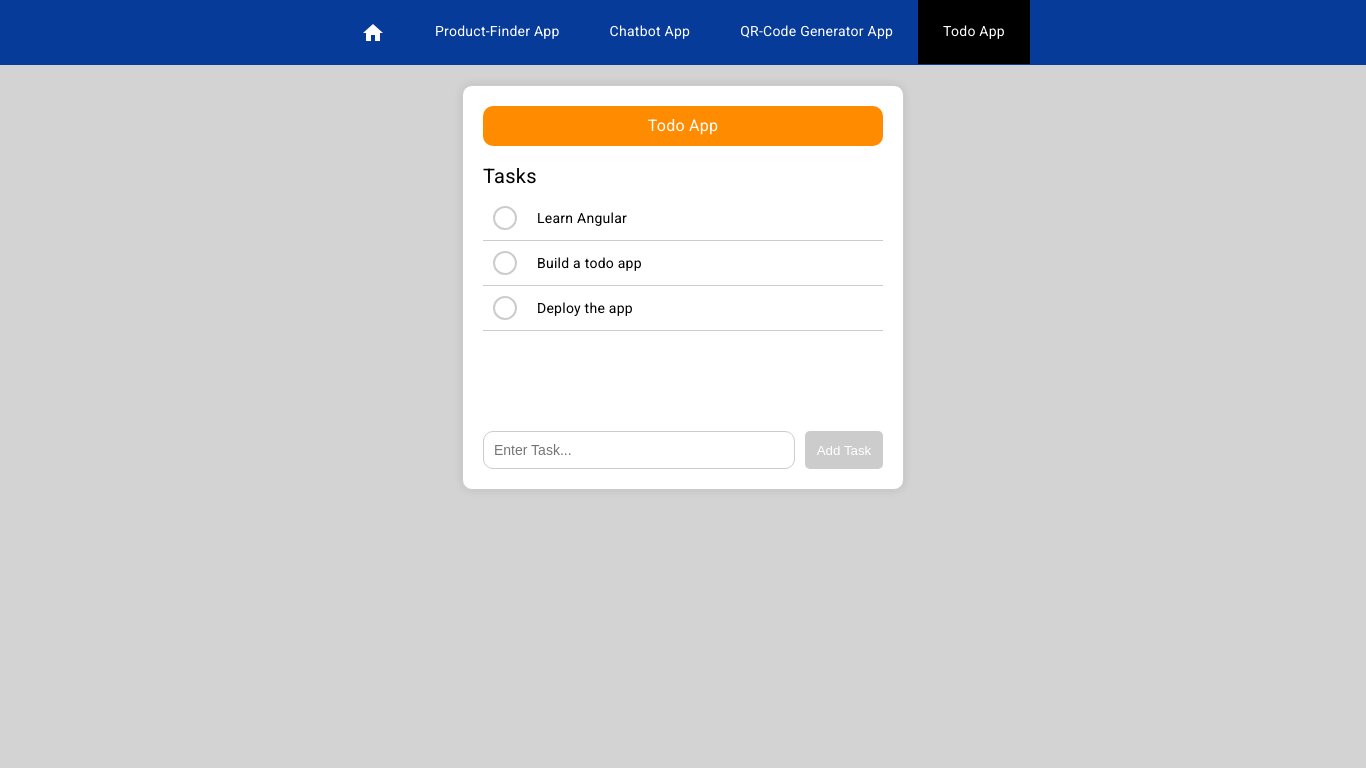
it: todo-app › can set a task completed + delete it
The image size is (1366, 768).
Click the element with class "status-circle" next to "Deploy the app".
click(505, 308)  # box [493,296,517,320]
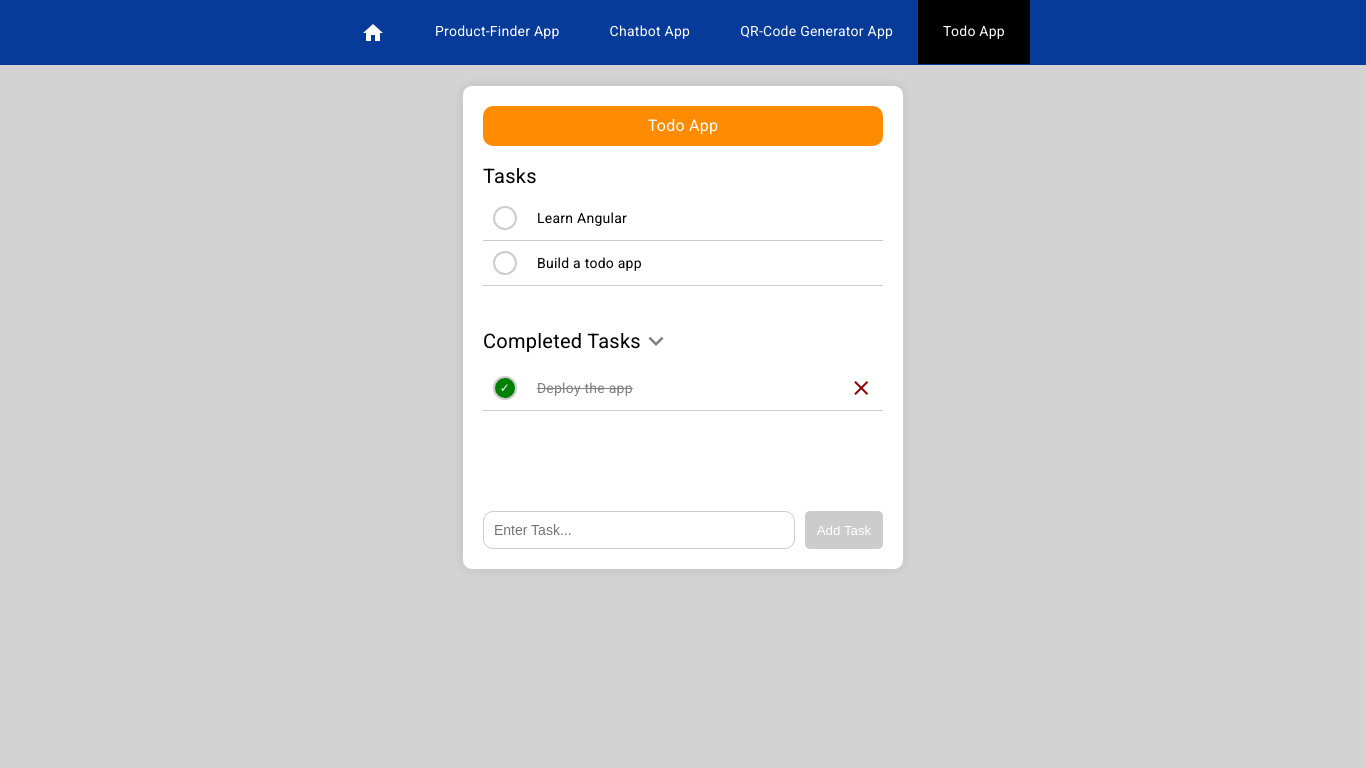
Expected: the text with class "todo-list" reads "Deploy the app", [537,380,633,396]
Now the element with class "completed-tasks-title" is shown, box [483,326,671,356]
Click the picture next to "Completed Tasks".
click(656, 341)  # box [641,326,671,356]
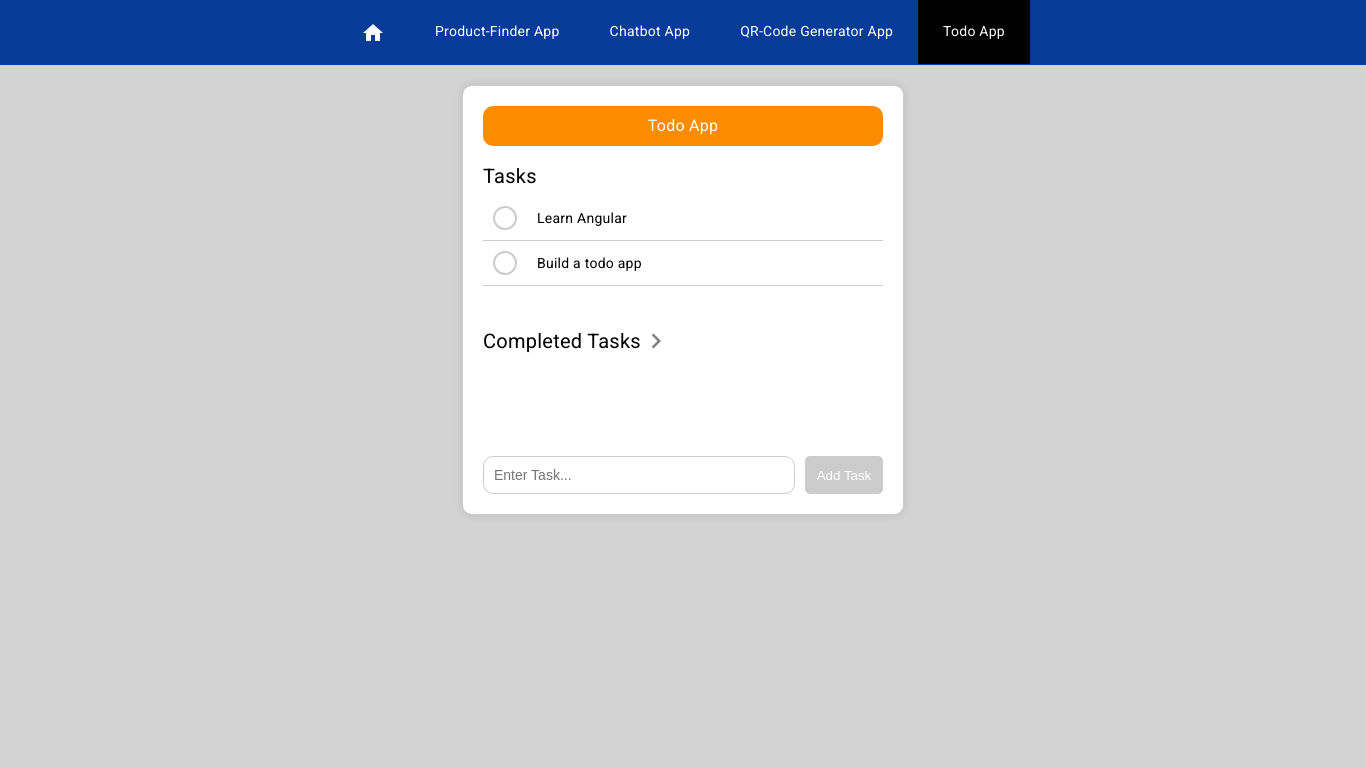
Now the element with class "circle-completed" is gone
Click the picture next to "Completed Tasks".
click(656, 341)  # box [641,326,671,356]
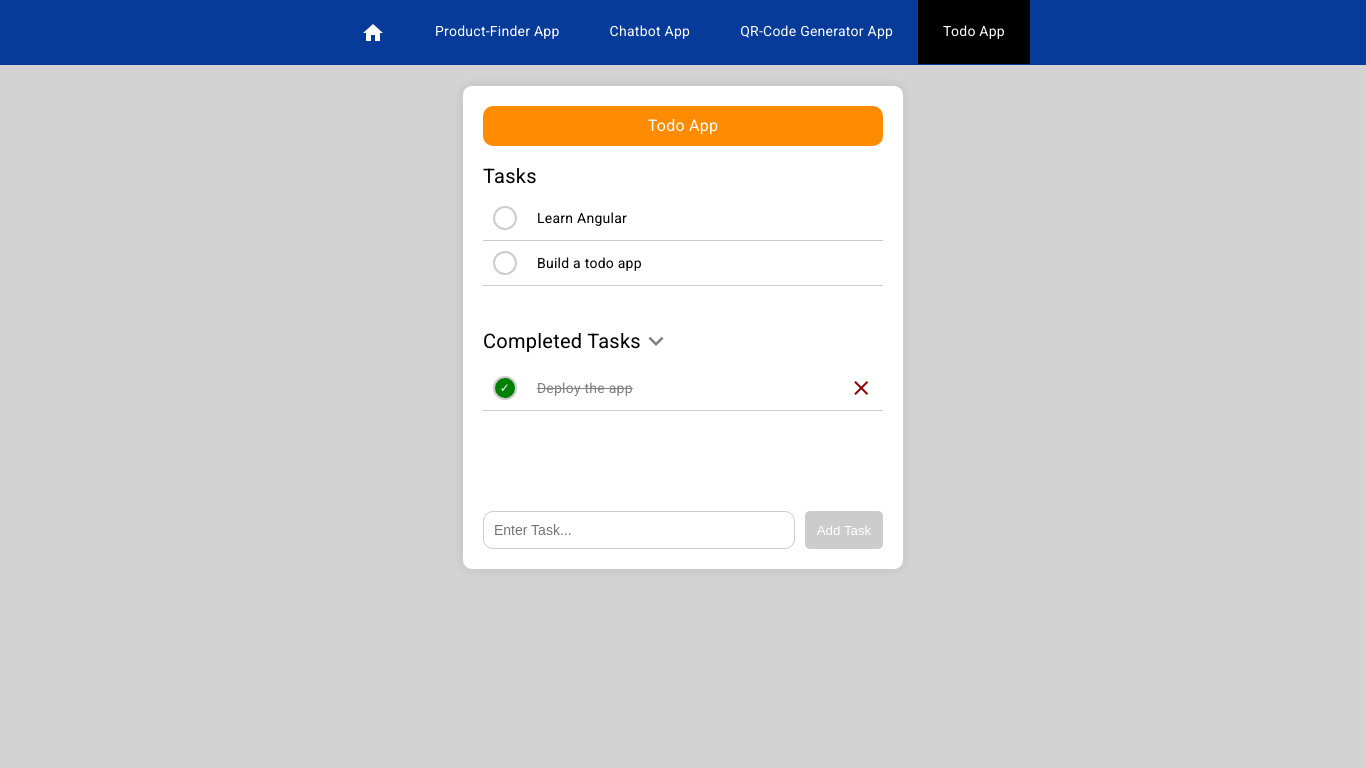
Now the element with class "circle-completed" is shown, box [493,376,517,400]
Click the picture with class "delete-button".
click(861, 388)  # box [849,376,873,400]
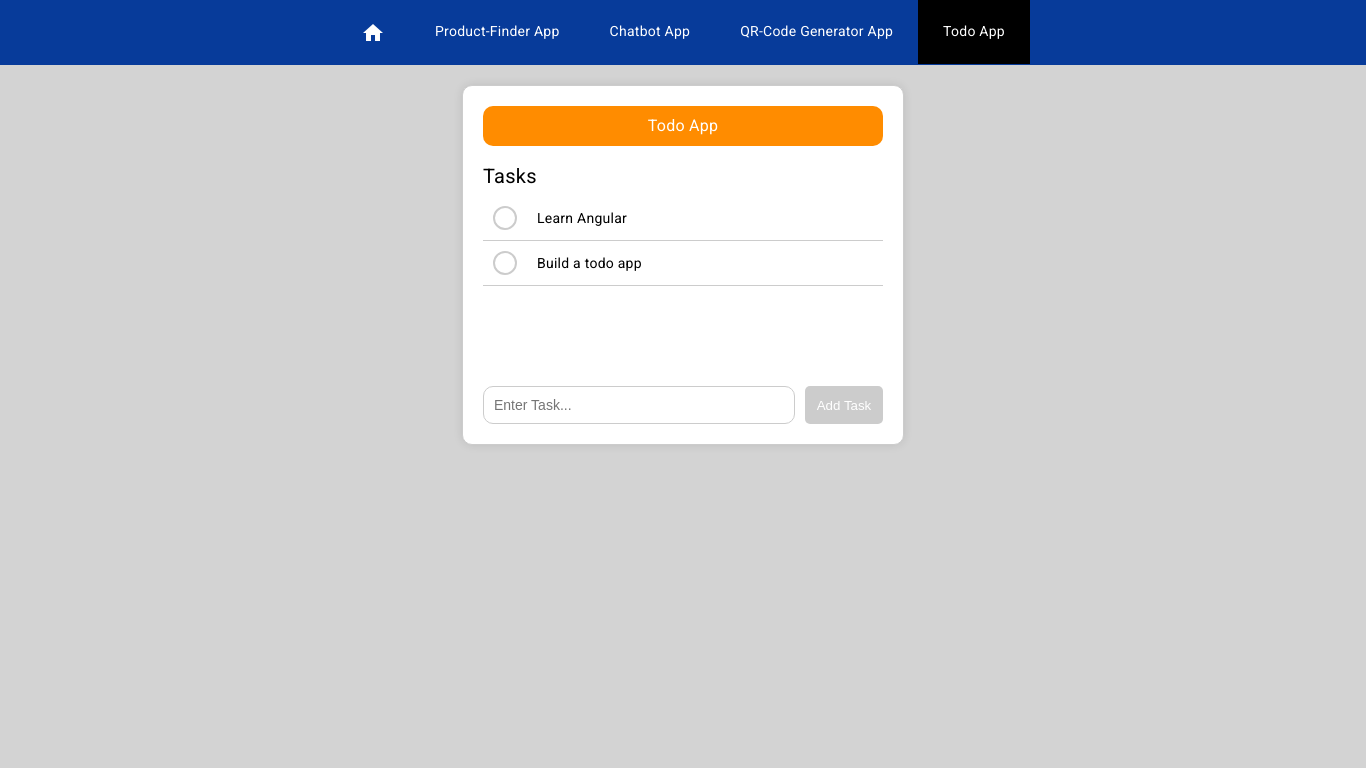
Expected: the number of elements with class "status-circle" is 2, [493,206,517,230]; [493,251,517,275]
Now the element with class "circle-completed" is gone
Now the element with class "completed-tasks-title" is gone
